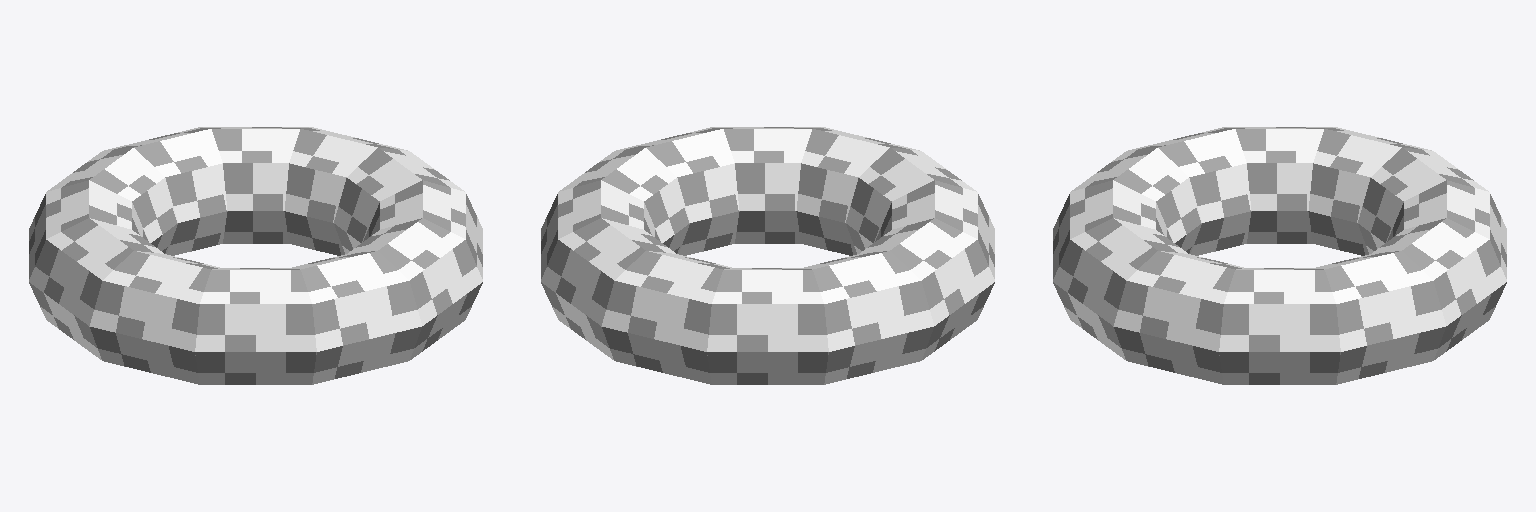
The picture shows the model from 3 angles: view 1: azimuth 30°, elevation 25°; view 2: azimuth 150°, elevation 25°; view 3: azimuth 270°, elevation 25°; orthographic projection.
Visible parts, largest first — view 1: torus; view 2: torus; view 3: torus.
Boxes of the visible parts, box(x1,y1,x2,y2) form: torus: box(29, 127, 482, 384); torus: box(541, 127, 994, 384); torus: box(1053, 127, 1506, 384).
Bounding box in the file's own units: 0.9375 × 0.2588 × 0.9375.
Materials: 1 (1 with a texture image).